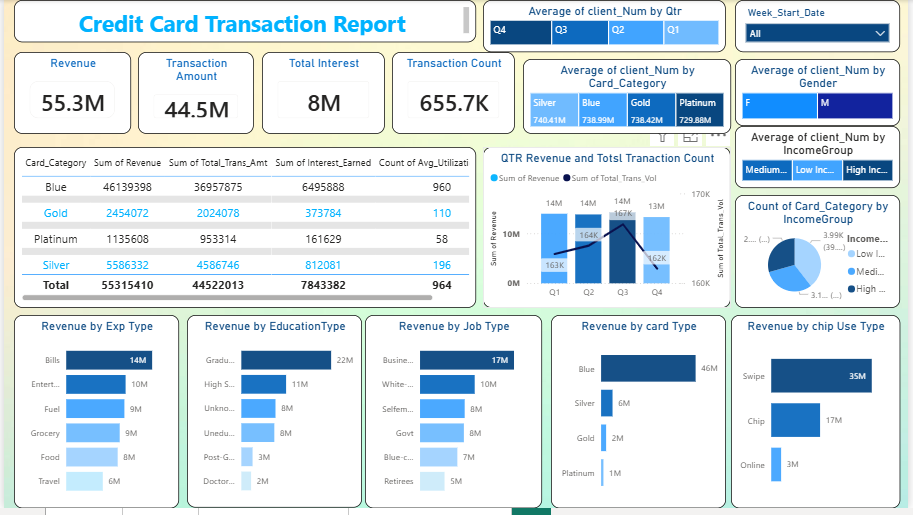

The page's visual inventory and layout, read from the dashboard file:
{"tool":"powerbi","page":{"name":"Credit Card Analysis","canvas":[1280,720],"ordinal":2},"visuals":[{"type":"textbox","box":[14.2,0,654.8,59.5],"z":0},{"type":"lineStackedColumnComboChart","title":"QTR Revenue and Totsl Tranaction Count","fields":{"Category":["creditcard cc_detail.Qtr"],"Y":["Sum(creditcard cc_detail.Revenue)"],"Y2":["Sum(creditcard cc_detail.Total_Trans_Vol)"]},"box":[678.9,208.3,351.5,228.2],"z":1000},{"type":"barChart","title":"Revenue by Exp Type","fields":{"Y":["Sum(creditcard cc_detail.Revenue)"],"Category":["creditcard cc_detail.Exp_Type"]},"box":[14.2,446.5,233.9,273.5],"z":2000},{"type":"barChart","title":"Revenue by EducationType","fields":{"Y":["Sum(creditcard cc_detail.Revenue)"],"Category":["creditcard cust_detail.Education_Level"]},"box":[259.4,446.5,248,273],"z":3000},{"type":"barChart","title":"Revenue by Job Type","fields":{"Y":["Sum(creditcard cc_detail.Revenue)"],"Category":["creditcard cust_detail.Customer_Job"]},"box":[511.7,446.5,251,273.5],"z":4000},{"type":"barChart","title":"Revenue by card Type","fields":{"Y":["Sum(creditcard cc_detail.Revenue)"],"Category":["creditcard cc_detail.Card_Category"]},"box":[775.3,446.5,248,273.5],"z":5000},{"type":"barChart","title":"Revenue by chip Use Type","fields":{"Y":["Sum(creditcard cc_detail.Revenue)"],"Category":["creditcard cc_detail.Use_Chip"]},"box":[1030.4,446.5,239.5,273.5],"z":6000},{"type":"tableEx","fields":{"Values":["creditcard cc_detail.Card_Category","Sum(creditcard cc_detail.Revenue)","Sum(creditcard cc_detail.Total_Trans_Amt)","Sum(creditcard cc_detail.Interest_Earned)","Count(creditcard cc_detail.Avg_Utilization_Ratio)"]},"box":[14.2,208.3,654.8,228.2],"z":7000},{"type":"cardVisual","title":"Revenue","fields":{"Data":["Sum(creditcard cc_detail.Revenue)"]},"box":[14.2,73.7,165.8,116.2],"z":8000},{"type":"cardVisual","title":"Transaction Amount","fields":{"Data":["Sum(creditcard cc_detail.Total_Trans_Amt)"]},"box":[189.9,73.7,164.4,116.2],"z":9000},{"type":"cardVisual","title":"Total Interest","fields":{"Data":["Sum(creditcard cc_detail.Interest_Earned)"]},"box":[365.7,73.7,174.3,116.2],"z":10000},{"type":"cardVisual","title":"Transaction Count","fields":{"Data":["Sum(creditcard cc_detail.Total_Trans_Vol)"]},"box":[549.9,73.7,174.3,116.2],"z":11000},{"type":"slicer","fields":{"Values":["creditcard cc_detail.Week_Start_Date"]},"box":[1036.1,0,233.9,73.7],"z":13000},{"type":"treemap","fields":{"Group":["creditcard cc_detail.Qtr"],"Values":["Avg(creditcard cc_detail.client_Num)"]},"box":[678.9,0,344.4,73.7],"z":14000},{"type":"treemap","fields":{"Group":["creditcard cust_detail.Gender"],"Values":["Avg(creditcard cust_detail.client_Num)"]},"box":[1036.1,83.6,233.9,95],"z":15000},{"type":"treemap","fields":{"Group":["creditcard cc_detail.Card_Category"],"Values":["Avg(creditcard cc_detail.client_Num)"]},"box":[735.6,83.6,294.8,106.3],"z":16000},{"type":"treemap","fields":{"Group":["creditcard cust_detail.IncomeGroup"],"Values":["Avg(creditcard cc_detail.client_Num)"]},"box":[1036.1,178.6,233.9,87.9],"z":17000},{"type":"pieChart","fields":{"Y":["CountNonNull(creditcard cc_detail.Card_Category)"],"Category":["creditcard cust_detail.IncomeGroup"]},"box":[1036.1,276.4,233.9,160.2],"z":18000}]}

Visuals, with their boxes in screenshot pixels (x1, y1, x2, y2), scaled from the page's 1280x720 canvas onto the 913x515 screenshot:
textbox: [10, 0, 477, 43]
"QTR Revenue and Totsl Tranaction Count" lineStackedColumnComboChart: [484, 149, 735, 312]
"Revenue by Exp Type" barChart: [10, 319, 177, 514]
"Revenue by EducationType" barChart: [185, 319, 362, 514]
"Revenue by Job Type" barChart: [365, 319, 544, 514]
"Revenue by card Type" barChart: [553, 319, 730, 514]
"Revenue by chip Use Type" barChart: [735, 319, 906, 514]
tableEx - creditcard cc_detail.Card_Category x Sum(creditcard cc_detail.Revenue): [10, 149, 477, 312]
"Revenue" cardVisual: [10, 53, 128, 136]
"Transaction Amount" cardVisual: [135, 53, 253, 136]
"Total Interest" cardVisual: [261, 53, 385, 136]
"Transaction Count" cardVisual: [392, 53, 517, 136]
slicer - creditcard cc_detail.Week_Start_Date: [739, 0, 906, 53]
treemap - creditcard cc_detail.Qtr x Avg(creditcard cc_detail.client_Num): [484, 0, 730, 53]
treemap - creditcard cust_detail.Gender x Avg(creditcard cust_detail.client_Num): [739, 60, 906, 128]
treemap - creditcard cc_detail.Card_Category x Avg(creditcard cc_detail.client_Num): [525, 60, 735, 136]
treemap - creditcard cust_detail.IncomeGroup x Avg(creditcard cc_detail.client_Num): [739, 128, 906, 191]
pieChart - CountNonNull(creditcard cc_detail.Card_Category) x creditcard cust_detail.IncomeGroup: [739, 198, 906, 312]
